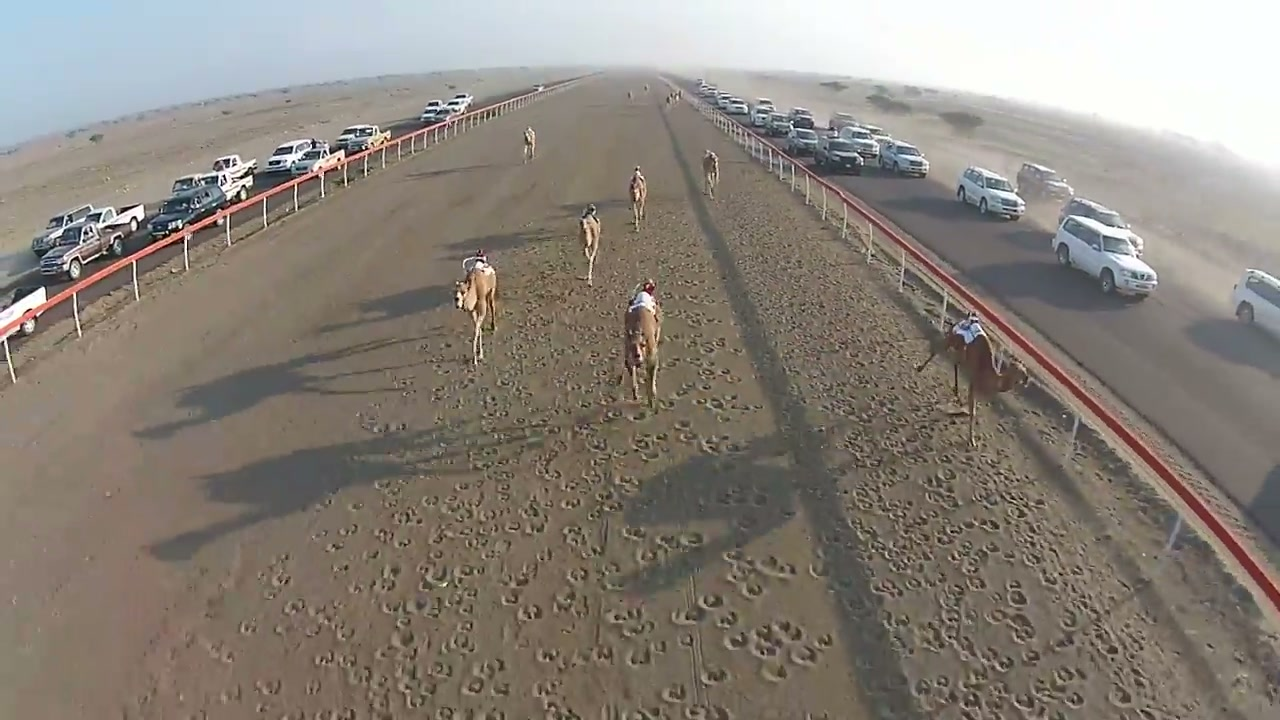animal_footprint: (138, 113, 1264, 718)
